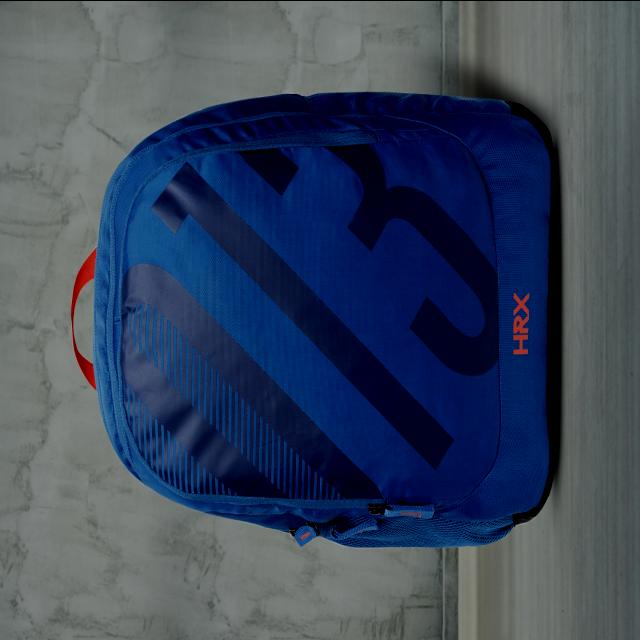backpack: (71, 92, 559, 550)
